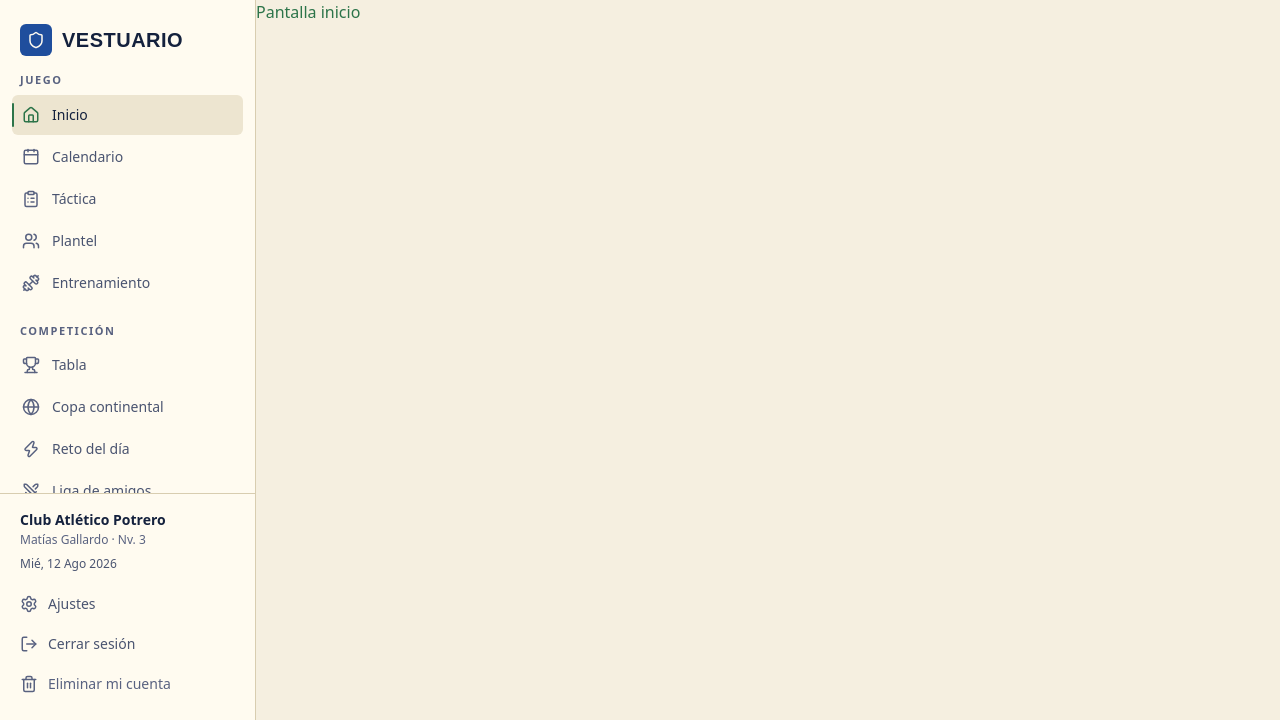
Test case: AppShell › el menú lateral tiene un botón de Ajustes que abre el panel con la apariencia
What coordinates should you click on to do the following:
click the button "Ajustes"
I would click on:
 (120, 604)
Its box is [12,584,227,624].
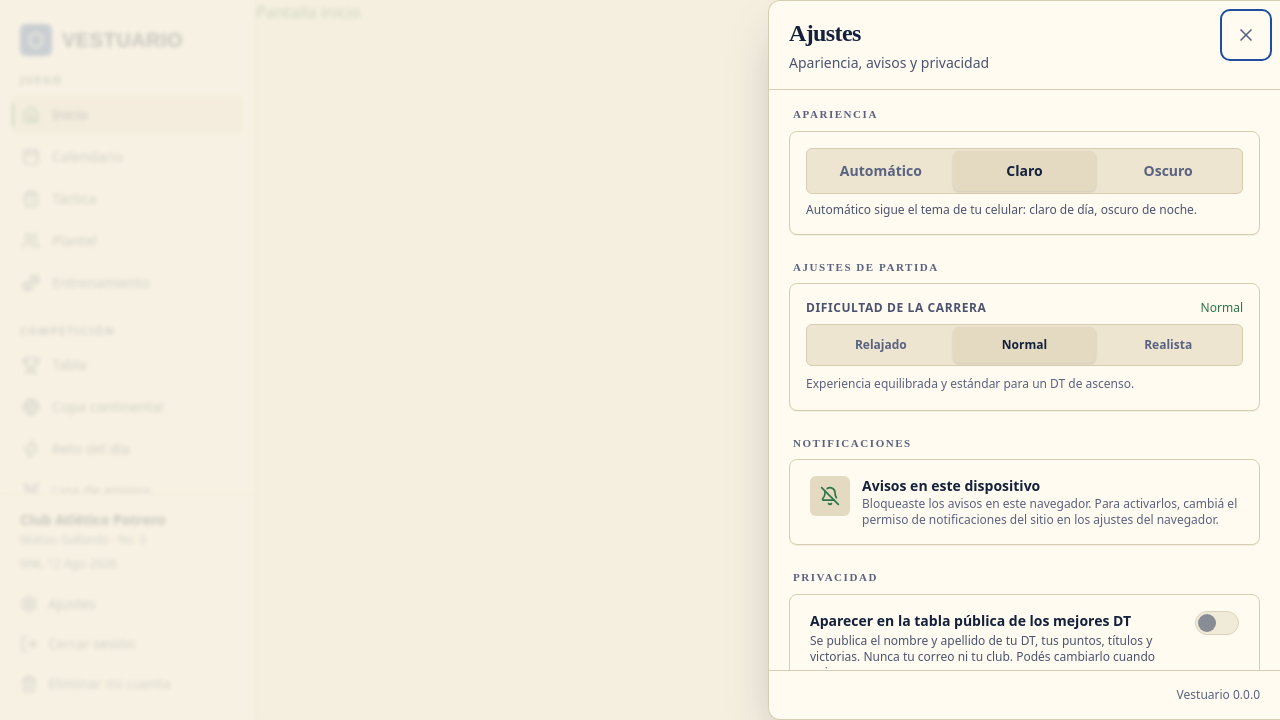
Now the element named "Apariencia" is shown, box [806,148,1243,194]
